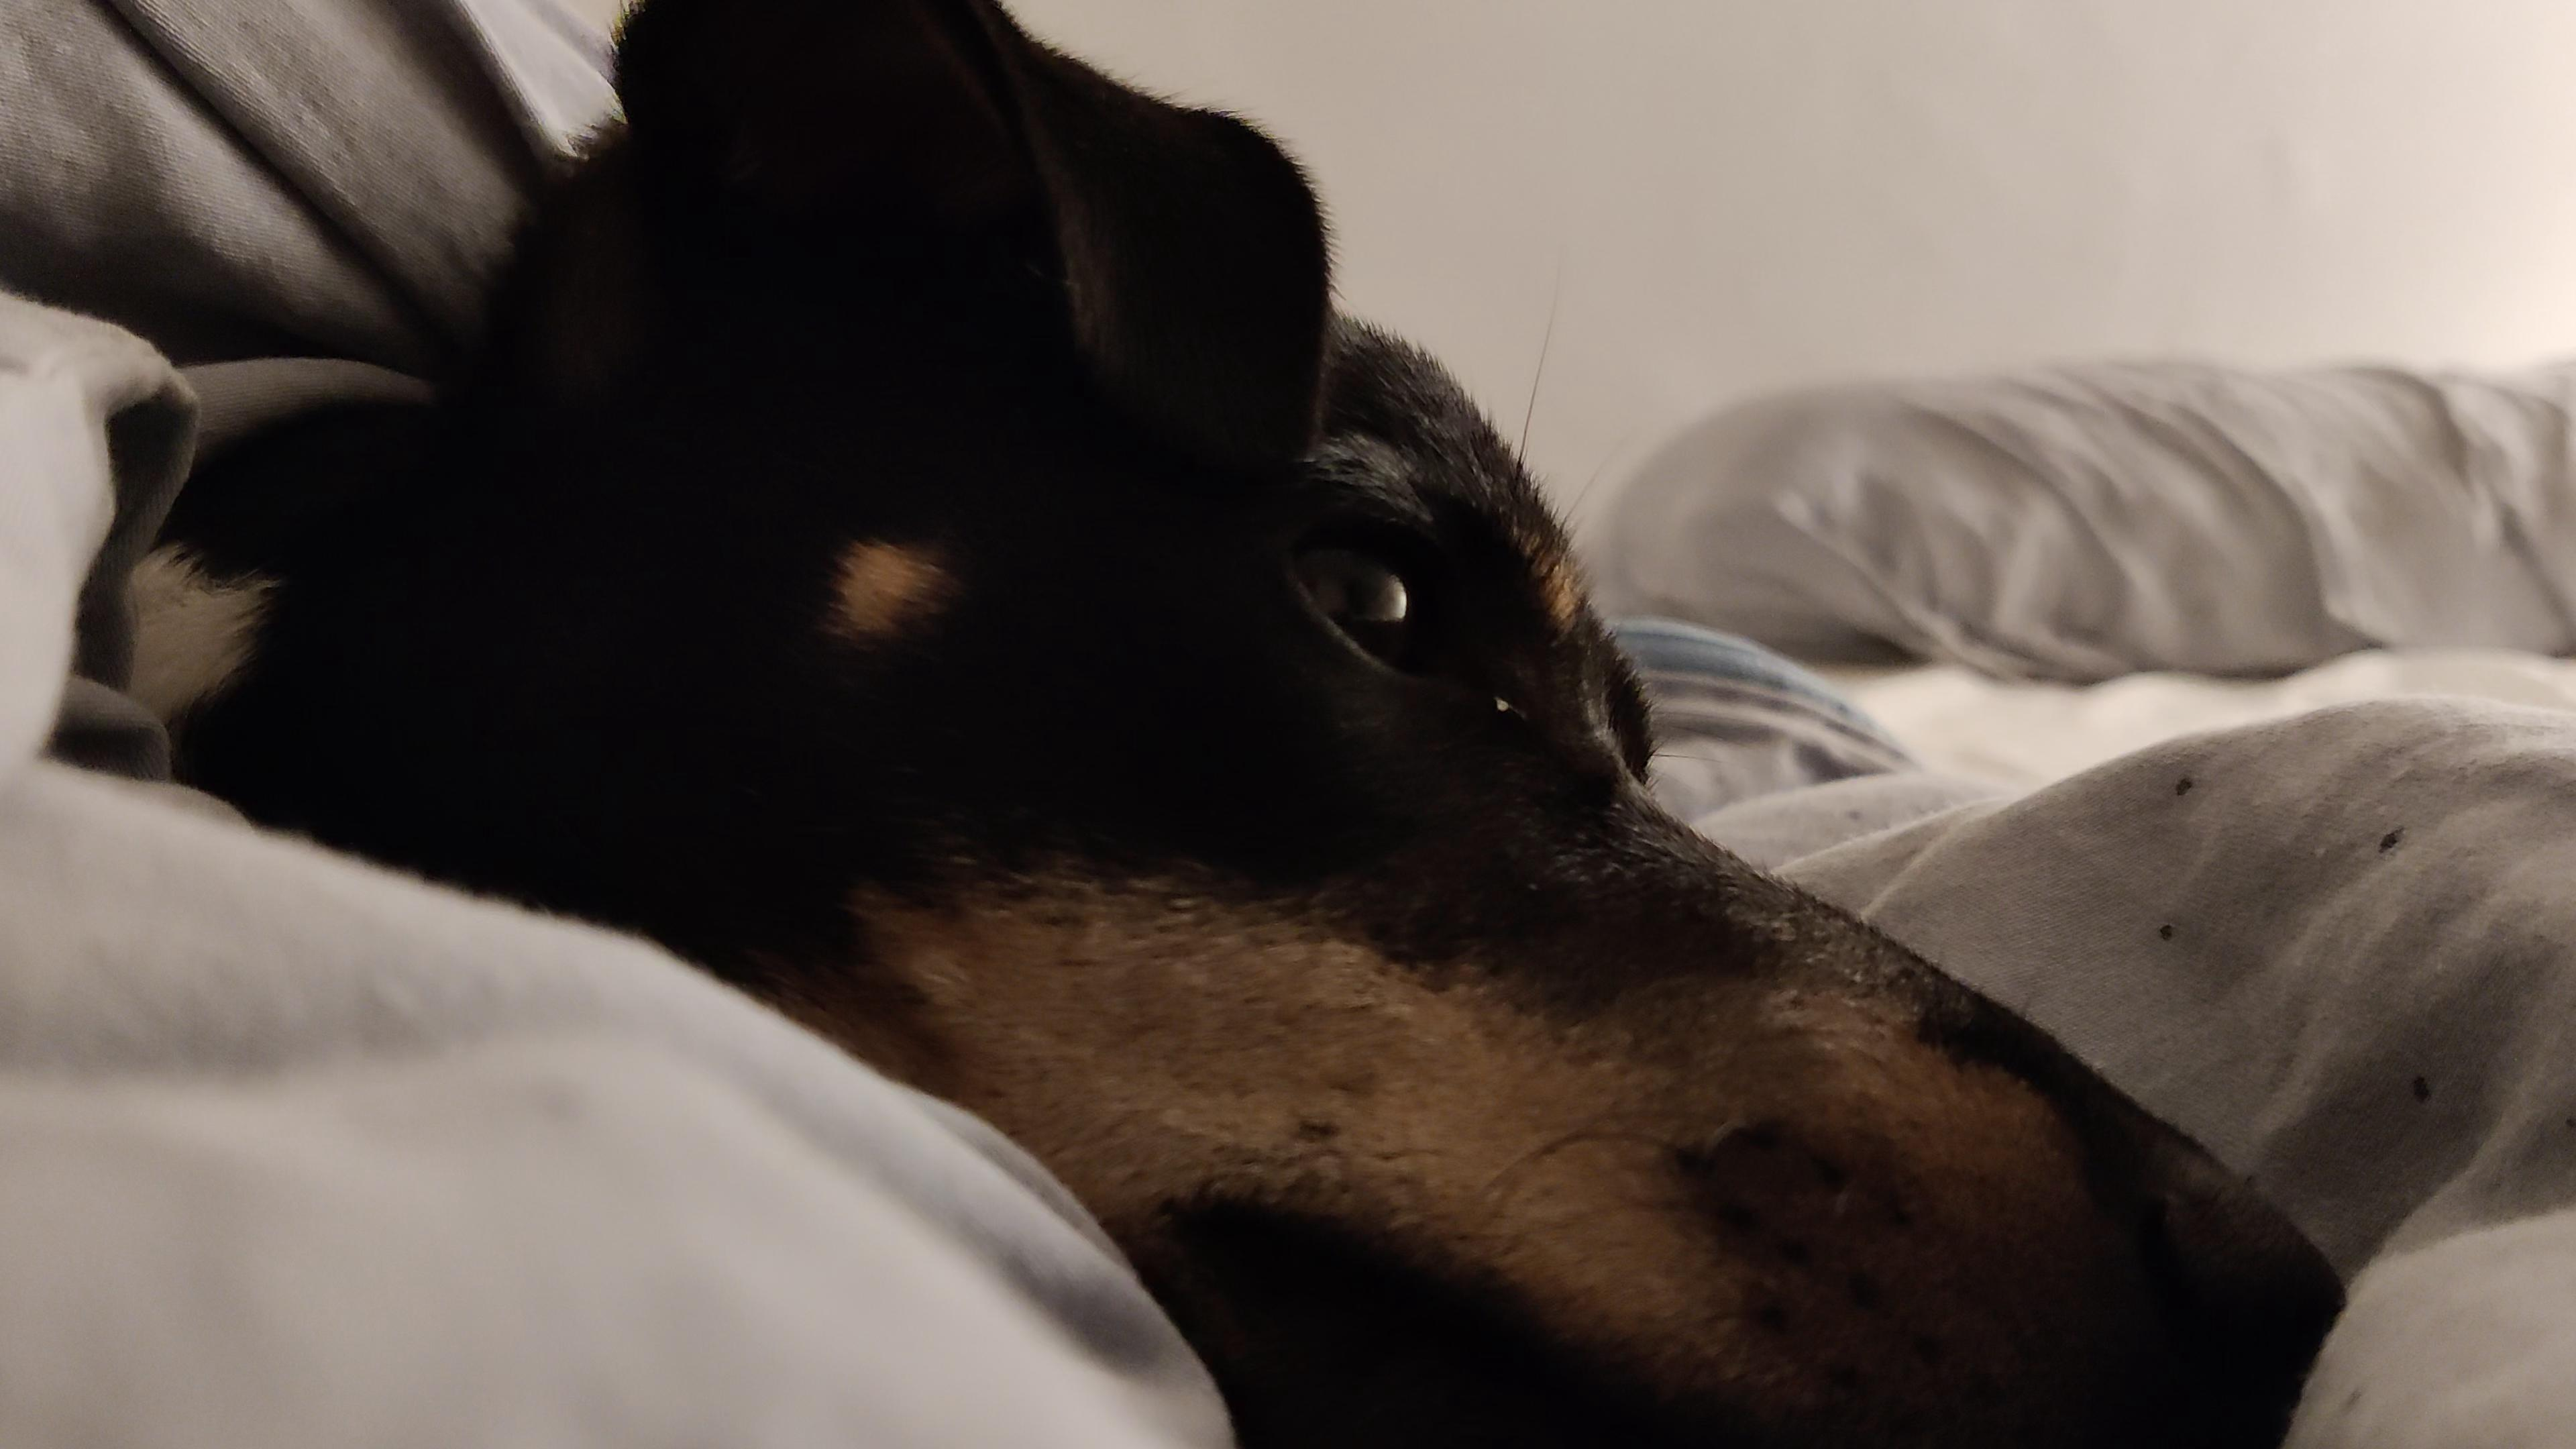Dog: (122, 0, 2350, 1449)
